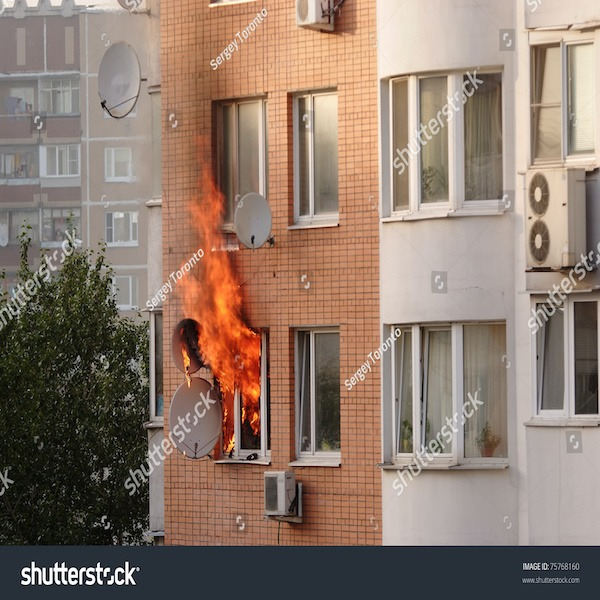fire: (192, 187, 232, 375), (233, 325, 260, 430)
